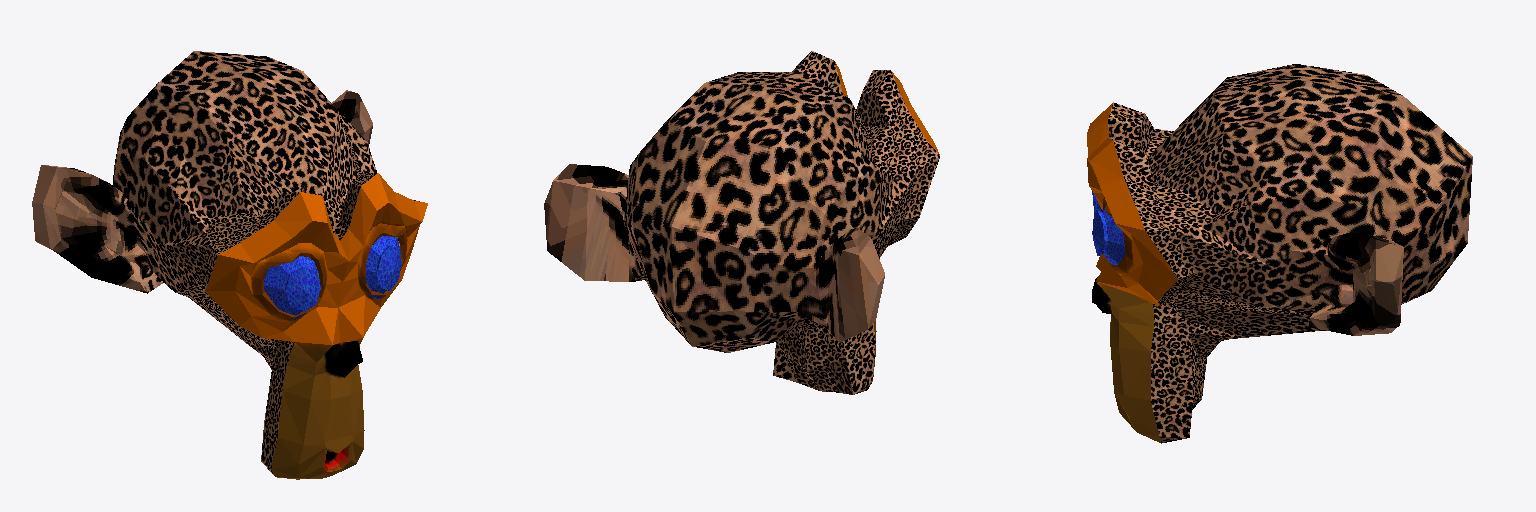
3 views of the same model, side by side, from view 1: azimuth 30°, elevation 25°; view 2: azimuth 150°, elevation 25°; view 3: azimuth 270°, elevation 25° (orthographic).
Parts seen in each view (by area): view 1: Monkey; view 2: Monkey; view 3: Monkey.
Part boxes in pixels (left/top/right/bottom): Monkey: left=32, top=51, right=427, bottom=479; Monkey: left=544, top=51, right=939, bottom=394; Monkey: left=1087, top=64, right=1472, bottom=443.
Size of the model in its own units: 2 by 2 by 2.
Materials: 1 (1 with a texture image).